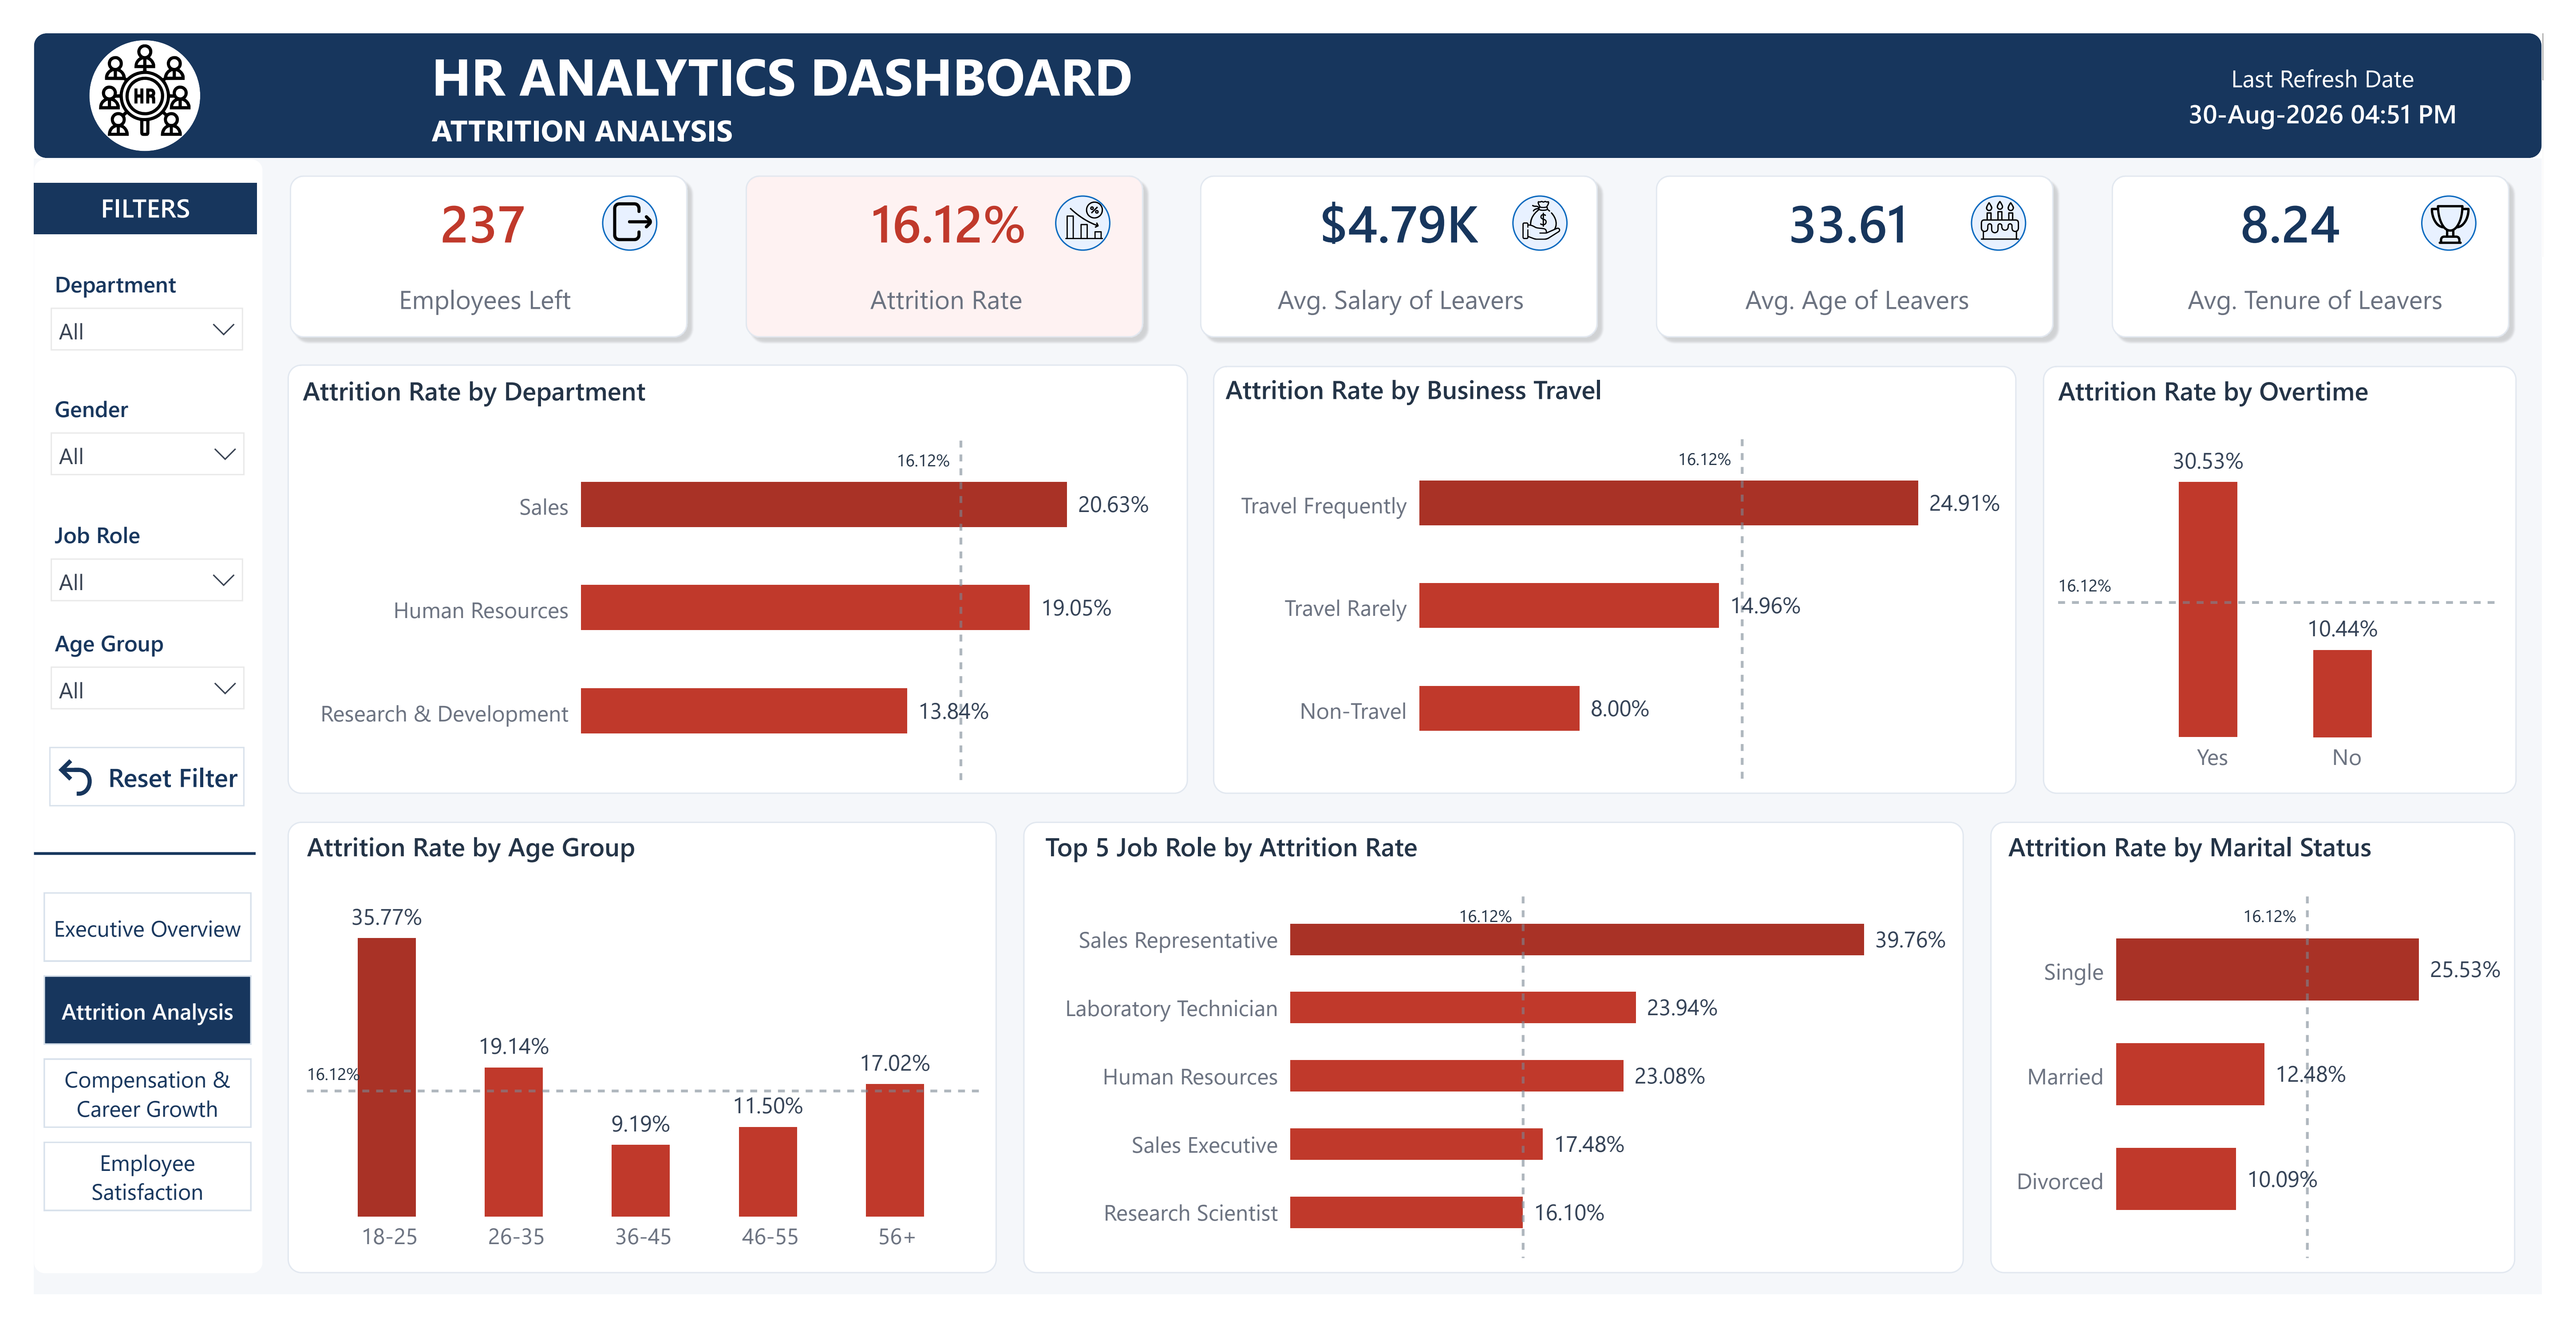

This screenshot's page, from the dashboard's own definition file:
{"tool":"powerbi","page":{"name":"Attrition Analysis","canvas":[1810,910],"ordinal":1},"visuals":[{"type":"shape","box":[0,0,1810,90],"z":0},{"type":"shape","box":[410,116.7,40,40],"z":0,"group":"g6"},{"type":"shape","box":[736.7,116.7,40,40],"z":0,"group":"g7"},{"type":"shape","box":[1066.7,116.7,40,40],"z":0,"group":"g8"},{"type":"shape","box":[1398.3,116.7,40,40],"z":0,"group":"g9"},{"type":"shape","box":[1723.3,116.7,40,40],"z":0,"group":"g10"},{"type":"image","box":[743.4,120.7,28,28],"z":1000,"group":"g7"},{"type":"image","box":[1073.4,120.7,28,28],"z":1000,"group":"g8"},{"type":"image","box":[1405,120.7,28,28],"z":1000,"group":"g9"},{"type":"image","box":[418,122,28,28],"z":1000,"group":"g6"},{"type":"image","box":[1730,123.4,28,28],"z":1000,"group":"g10"},{"type":"shape","box":[182.7,569.2,512.1,326.2],"z":1000},{"type":"shape","box":[182.9,239.5,650,310],"z":2000},{"type":"textbox","box":[281.7,0,575.7,60],"z":3000},{"type":"clusteredBarChart","title":"Attrition Rate by Department","fields":{"Category":["hr_employees.department"],"Y":["_Measures.Attrition Rate"]},"box":[189.2,244.6,636,300.1],"z":4000},{"type":"textbox","box":[281.7,50.4,386,38.3],"z":5000},{"type":"shape","box":[0,91.3,164.7,804],"z":6000},{"type":"shape","box":[1493.1,96.4,300,130],"z":7000,"group":"g5"},{"type":"slicer","fields":{"Values":["hr_employees.department"]},"box":[1.6,164.7,159.8,89.7],"z":7000},{"type":"shape","box":[177.8,95.6,300,130],"z":8000,"group":"g1"},{"type":"slicer","fields":{"Values":["hr_employees.gender"]},"box":[1.6,255.4,160,90],"z":8000},{"type":"shape","box":[506.6,95.6,300,130],"z":9000,"group":"g2"},{"type":"slicer","fields":{"Values":["hr_employees.Age Group"]},"box":[1.6,424,160,90],"z":9000},{"type":"shape","box":[835.4,95.6,300,130],"z":10000,"group":"g3"},{"type":"slicer","fields":{"Values":["hr_employees.job_role"]},"box":[1.6,346.4,159.8,76.6],"z":10000},{"type":"cardVisual","fields":{"Data":["_Measures.Last Refresh Date"]},"box":[1503.6,0,306.6,89.7],"z":11000},{"type":"shape","box":[1164.3,95.6,300,130],"z":11000,"group":"g4"},{"type":"textbox","box":[0,107.6,161.5,37.5],"z":12000},{"type":"shape","box":[0,585.5,159.8,13],"z":13000},{"type":"cardVisual","fields":{"Data":["_Measures.Employee Left"]},"box":[241.4,98.9,164.7,70.1],"z":14000,"group":"g1"},{"type":"pageNavigator","box":[6.5,619.7,150,231.6],"z":14000},{"type":"textbox","box":[236.5,173.9,177.8,40.8],"z":15000,"group":"g1"},{"type":"actionButton","box":[11.4,515.3,140.3,42.4],"z":15000},{"type":"shape","box":[40.4,5,80,80],"z":16000},{"type":"cardVisual","fields":{"Data":["_Measures.Attrition Rate"]},"box":[555.5,98.9,208.7,70.1],"z":16000,"group":"g2"},{"type":"image","box":[47.1,8.4,65.6,65.6],"z":17000},{"type":"textbox","box":[576.7,173.9,163.1,40.8],"z":17000,"group":"g2"},{"type":"group","id":"g1","title":"Group 2","box":[177.8,95.6,300,130],"z":18000},{"type":"cardVisual","fields":{"Data":["_Measures.Avg Salary(Employees Left)"]},"box":[885,98.9,200,70],"z":18000,"group":"g3"},{"type":"group","id":"g2","title":"Group 3","box":[506.6,95.6,300,130],"z":19000},{"type":"textbox","box":[856.6,173.9,260.9,40.8],"z":19000,"group":"g3"},{"type":"group","id":"g3","title":"Group 4","box":[835.4,95.6,300,130],"z":20000},{"type":"cardVisual","fields":{"Data":["_Measures.Average Age(Employees Left)"]},"box":[1217.3,98.9,185.3,70],"z":20000,"group":"g4"},{"type":"group","id":"g4","title":"Group 5","box":[1164.3,95.6,300,130],"z":21000},{"type":"textbox","box":[1179,173.9,274,40.8],"z":21000,"group":"g4"},{"type":"group","id":"g5","title":"Group 6","box":[1493.1,96.4,300,130],"z":22000},{"type":"cardVisual","fields":{"Data":["_Measures.Average Tenure(Employees Left)"]},"box":[1535.7,99.7,185.3,70],"z":22000,"group":"g5"},{"type":"group","id":"g6","title":"Group 13","box":[410,116.7,40,40],"z":23000},{"type":"textbox","box":[1515.9,174.7,260.9,39.1],"z":23000,"group":"g5"},{"type":"group","id":"g7","title":"Group 13","box":[736.7,116.7,40,40],"z":24000},{"type":"group","id":"g8","title":"Group 13","box":[1066.7,116.7,40,40],"z":25000},{"type":"group","id":"g9","title":"Group 13","box":[1398.3,116.7,40,40],"z":26000},{"type":"group","id":"g10","title":"Group 13","box":[1723.3,116.7,40,40],"z":27000},{"type":"shape","box":[851.4,239.5,580,309.9],"z":28000},{"type":"shape","box":[714.3,569.2,678.4,326.2],"z":29000},{"type":"shape","box":[1449.8,239.5,342.5,309.9],"z":30000},{"type":"clusteredBarChart","title":"Top 5 Job Role by Attrition Rate","fields":{"Category":["hr_employees.job_role"],"Y":["_Measures.Attrition Rate"]},"box":[725,574.1,661.1,314.6],"z":31000},{"type":"shape","box":[1412.3,569.2,378.4,326.2],"z":31500},{"type":"clusteredBarChart","title":"Attrition Rate by Marital Status","fields":{"Category":["hr_employees.marital_status"],"Y":["_Measures.Attrition Rate"]},"box":[1419.7,574.1,366.7,314.6],"z":32000},{"type":"clusteredColumnChart","title":"Attrition Rate by Age Group","fields":{"Category":["hr_employees.Age Group"],"Y":["_Measures.Attrition Rate"]},"box":[192.4,574.1,495.8,314.7],"z":34000},{"type":"clusteredColumnChart","title":"Attrition Rate by Overtime","fields":{"Category":["hr_employees.over_time"],"Y":["_Measures.Attrition Rate"]},"box":[1456.3,244.6,330,298.4],"z":35000},{"type":"clusteredBarChart","title":"Attrition Rate by Business Travel","fields":{"Y":["_Measures.Attrition Rate"],"Category":["hr_employees.Business Travel Display"]},"box":[854.5,243.9,570.3,299.4],"z":36000}]}

Visuals, with their boxes on the page's 1810x910 design canvas (x1, y1, x2, y2). These are canvas units, not pixel positions in the 2576x1328 screenshot, which may show the page scaled, cropped or inside an application window:
shape: l=0, t=0, r=1810, b=90
shape: l=410, t=117, r=450, b=157
shape: l=737, t=117, r=777, b=157
shape: l=1067, t=117, r=1107, b=157
shape: l=1398, t=117, r=1438, b=157
shape: l=1723, t=117, r=1763, b=157
image: l=743, t=121, r=771, b=149
image: l=1073, t=121, r=1101, b=149
image: l=1405, t=121, r=1433, b=149
image: l=418, t=122, r=446, b=150
image: l=1730, t=123, r=1758, b=151
shape: l=183, t=569, r=695, b=895
shape: l=183, t=240, r=833, b=550
textbox: l=282, t=0, r=857, b=60
"Attrition Rate by Department" clusteredBarChart: l=189, t=245, r=825, b=545
textbox: l=282, t=50, r=668, b=89
shape: l=0, t=91, r=165, b=895
shape: l=1493, t=96, r=1793, b=226
slicer - hr_employees.department: l=2, t=165, r=161, b=254
shape: l=178, t=96, r=478, b=226
slicer - hr_employees.gender: l=2, t=255, r=162, b=345
shape: l=507, t=96, r=807, b=226
slicer - hr_employees.Age Group: l=2, t=424, r=162, b=514
shape: l=835, t=96, r=1135, b=226
slicer - hr_employees.job_role: l=2, t=346, r=161, b=423
cardVisual - _Measures.Last Refresh Date: l=1504, t=0, r=1810, b=90
shape: l=1164, t=96, r=1464, b=226
textbox: l=0, t=108, r=162, b=145
shape: l=0, t=586, r=160, b=598
cardVisual - _Measures.Employee Left: l=241, t=99, r=406, b=169
pageNavigator: l=6, t=620, r=156, b=851
textbox: l=236, t=174, r=414, b=215
actionButton: l=11, t=515, r=152, b=558
shape: l=40, t=5, r=120, b=85
cardVisual - _Measures.Attrition Rate: l=556, t=99, r=764, b=169
image: l=47, t=8, r=113, b=74
textbox: l=577, t=174, r=740, b=215
"Group 2" group: l=178, t=96, r=478, b=226
cardVisual - _Measures.Avg Salary(Employees Left): l=885, t=99, r=1085, b=169
"Group 3" group: l=507, t=96, r=807, b=226
textbox: l=857, t=174, r=1118, b=215
"Group 4" group: l=835, t=96, r=1135, b=226
cardVisual - _Measures.Average Age(Employees Left): l=1217, t=99, r=1403, b=169
"Group 5" group: l=1164, t=96, r=1464, b=226
textbox: l=1179, t=174, r=1453, b=215
"Group 6" group: l=1493, t=96, r=1793, b=226
cardVisual - _Measures.Average Tenure(Employees Left): l=1536, t=100, r=1721, b=170
"Group 13" group: l=410, t=117, r=450, b=157
textbox: l=1516, t=175, r=1777, b=214
"Group 13" group: l=737, t=117, r=777, b=157
"Group 13" group: l=1067, t=117, r=1107, b=157
"Group 13" group: l=1398, t=117, r=1438, b=157
"Group 13" group: l=1723, t=117, r=1763, b=157
shape: l=851, t=240, r=1431, b=549
shape: l=714, t=569, r=1393, b=895
shape: l=1450, t=240, r=1792, b=549
"Top 5 Job Role by Attrition Rate" clusteredBarChart: l=725, t=574, r=1386, b=889
shape: l=1412, t=569, r=1791, b=895
"Attrition Rate by Marital Status" clusteredBarChart: l=1420, t=574, r=1786, b=889
"Attrition Rate by Age Group" clusteredColumnChart: l=192, t=574, r=688, b=889
"Attrition Rate by Overtime" clusteredColumnChart: l=1456, t=245, r=1786, b=543
"Attrition Rate by Business Travel" clusteredBarChart: l=854, t=244, r=1425, b=543
